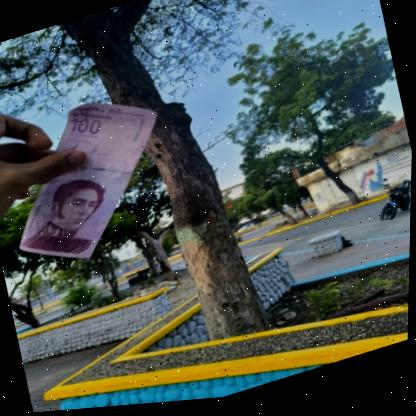one_hundred-front-vef: (0, 82, 186, 281)
